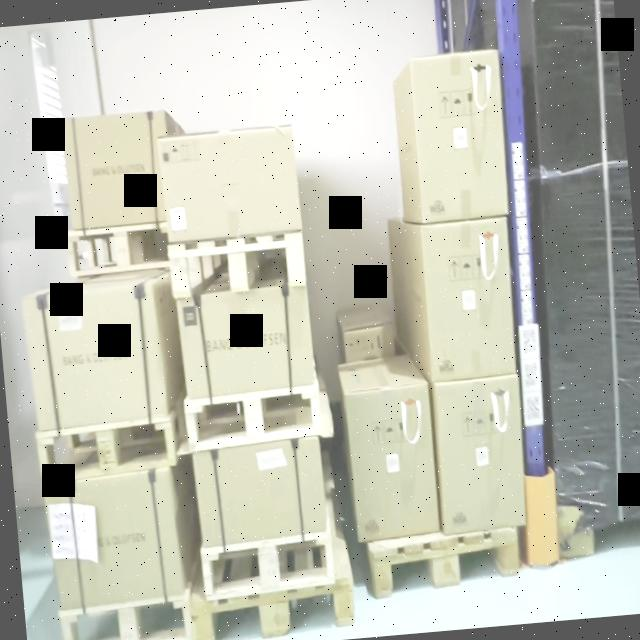box: (23, 292, 163, 432), (46, 480, 180, 604), (158, 127, 300, 240), (413, 55, 508, 222), (422, 220, 518, 374), (434, 379, 528, 533), (346, 390, 441, 538), (196, 444, 326, 544), (178, 297, 314, 392)
